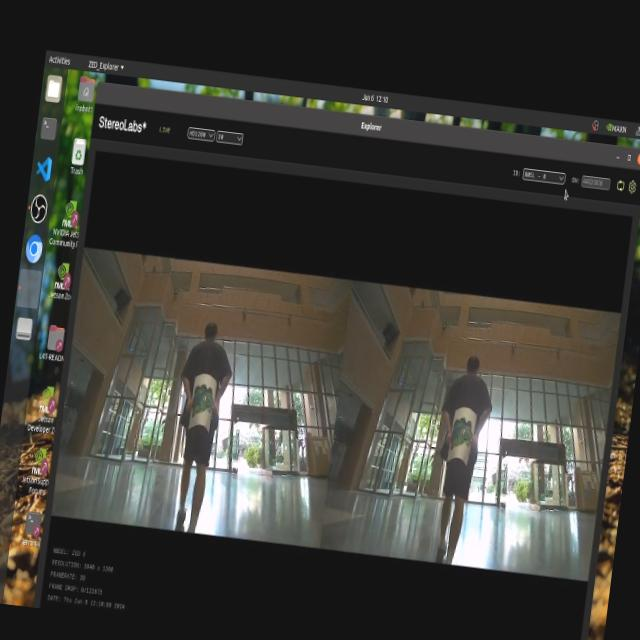green: (180, 390, 218, 422), (456, 410, 479, 460)
